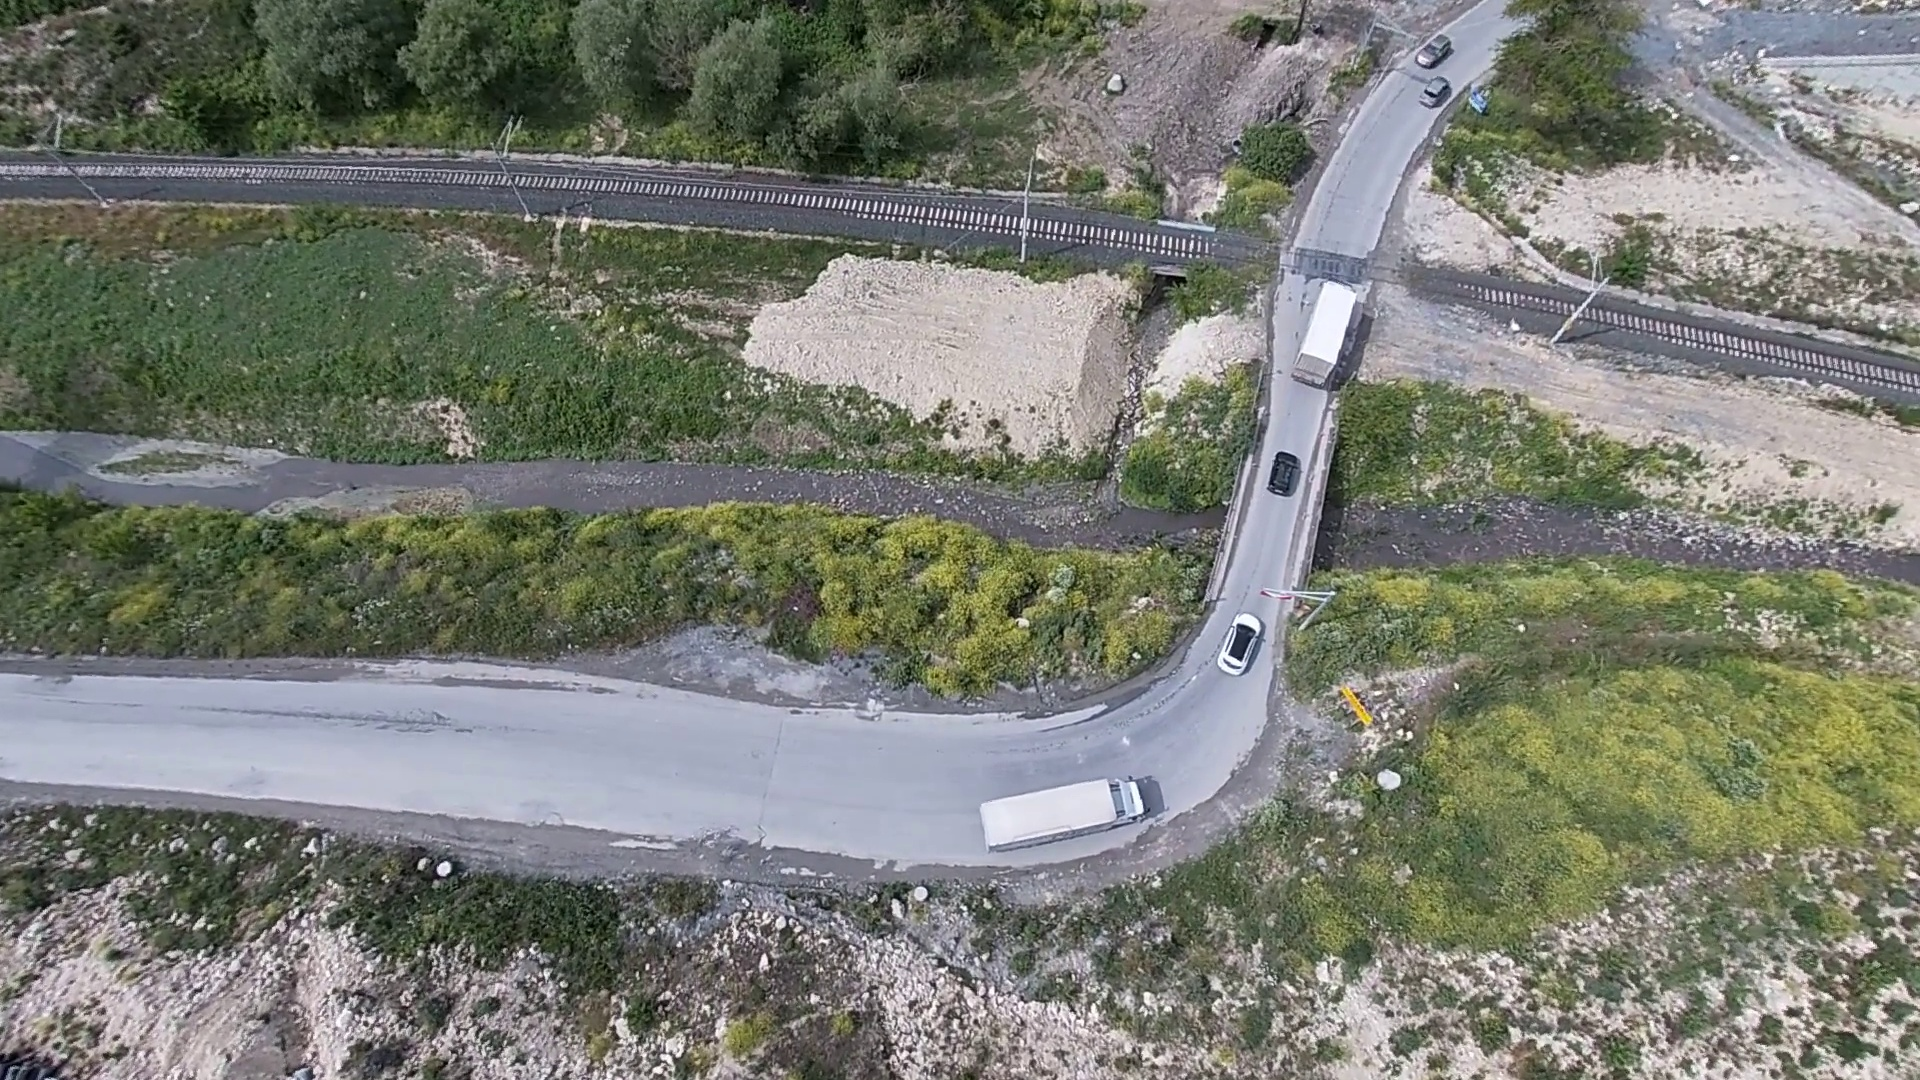arac: (975, 771, 1182, 843), (1284, 278, 1371, 400), (1215, 605, 1269, 678), (1416, 73, 1453, 117), (1271, 456, 1304, 505), (1424, 29, 1462, 63)
